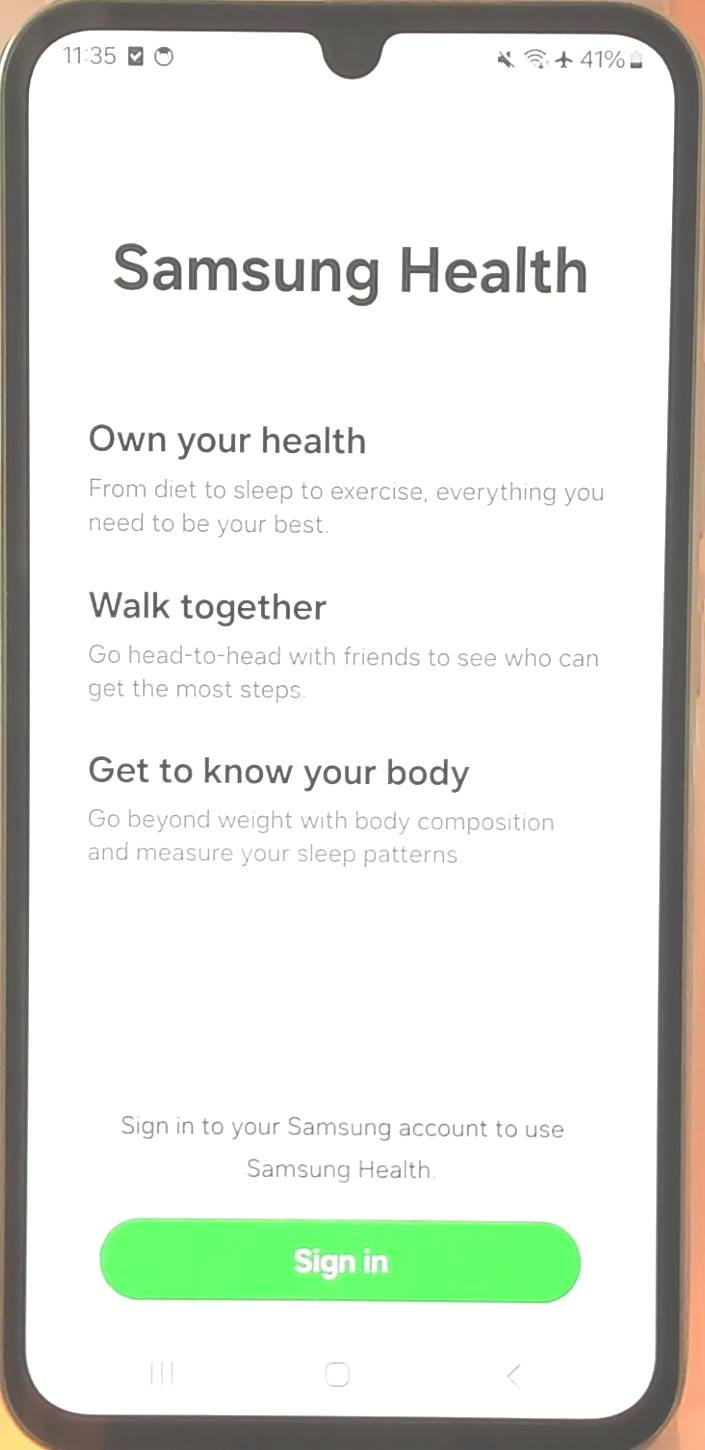CommunBotton: (90, 1208, 590, 1314), (136, 1346, 190, 1402), (494, 1346, 542, 1404), (308, 1354, 372, 1396)
